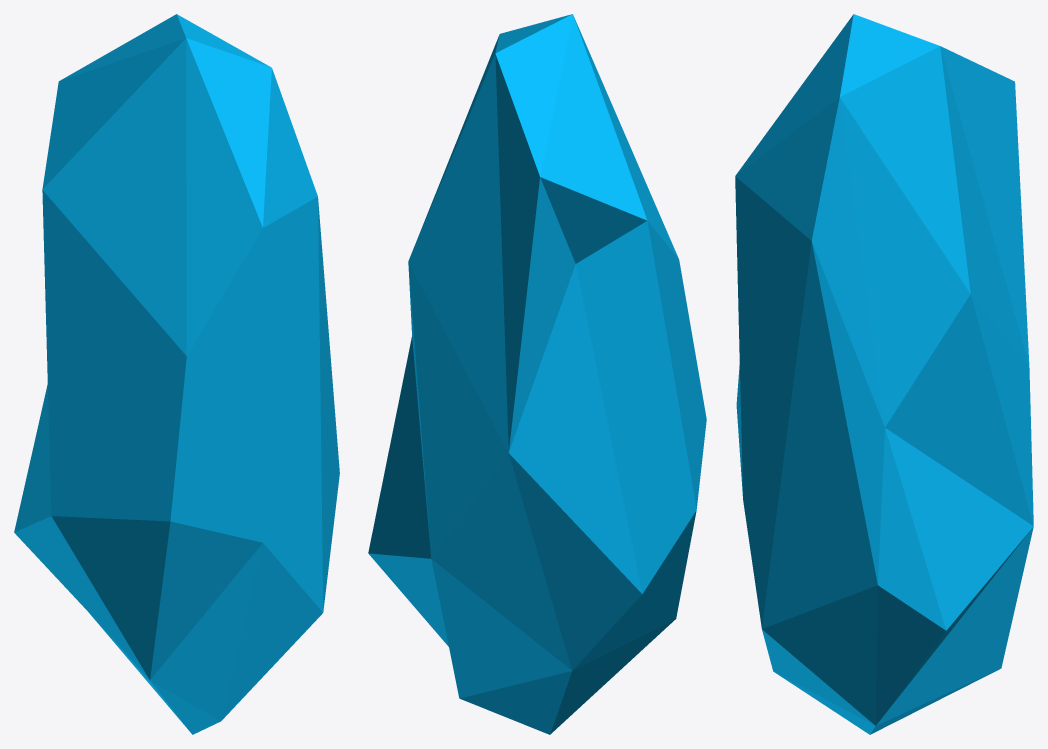
The model's file is Crystal_003.fbx.
3 renders of one model, left to right at view 1: azimuth 30°, elevation 25°; view 2: azimuth 150°, elevation 25°; view 3: azimuth 270°, elevation 25°, orthographic.
Parts seen in each view (by area): view 1: Crystal.003; view 2: Crystal.003; view 3: Crystal.003.
Boxes of the visible parts, box(x1,y1,x2,y2) form: Crystal.003: box(14, 14, 339, 734); Crystal.003: box(368, 14, 706, 734); Crystal.003: box(735, 14, 1033, 734).
Bounding box in the file's own units: 223 × 512 × 194.
